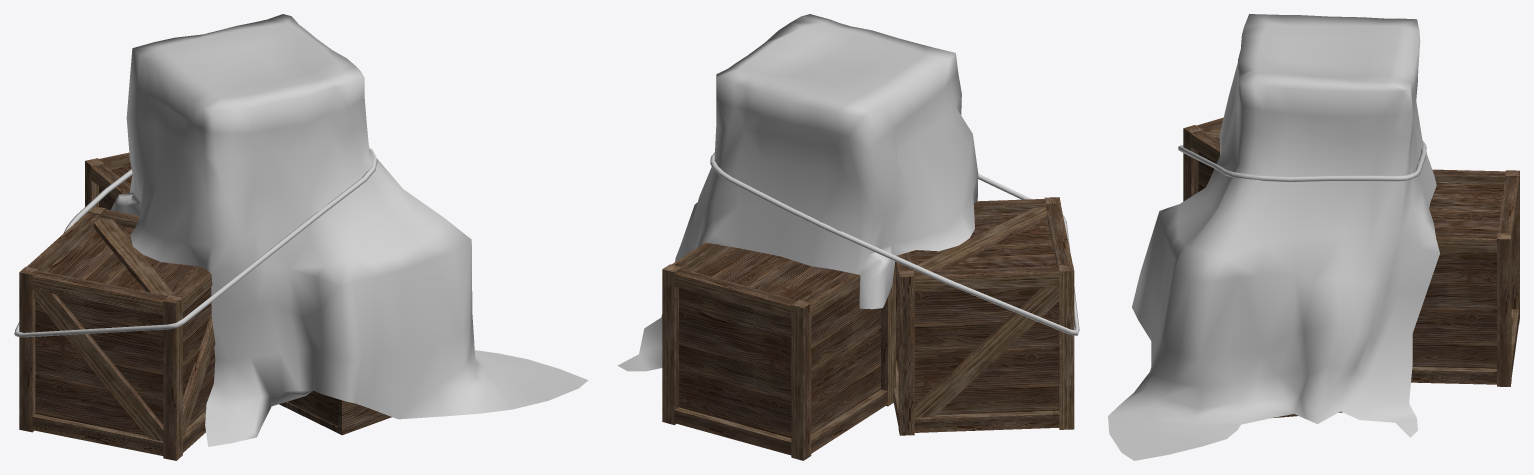
File: storage_box_set_01.fbx
3 renders of one model, left to right at view 1: azimuth 30°, elevation 25°; view 2: azimuth 150°, elevation 25°; view 3: azimuth 270°, elevation 25°, orthographic. The views are drawn at different scales.
Visible parts, largest first — view 1: storage_box_set_01; view 2: storage_box_set_01; view 3: storage_box_set_01.
Boxes of the visible parts, bbox=[...] form: storage_box_set_01: bbox=[14, 14, 588, 460]; storage_box_set_01: bbox=[617, 14, 1079, 460]; storage_box_set_01: bbox=[1108, 14, 1519, 460].
Size of the model in its own units: 234 by 148 by 179.
